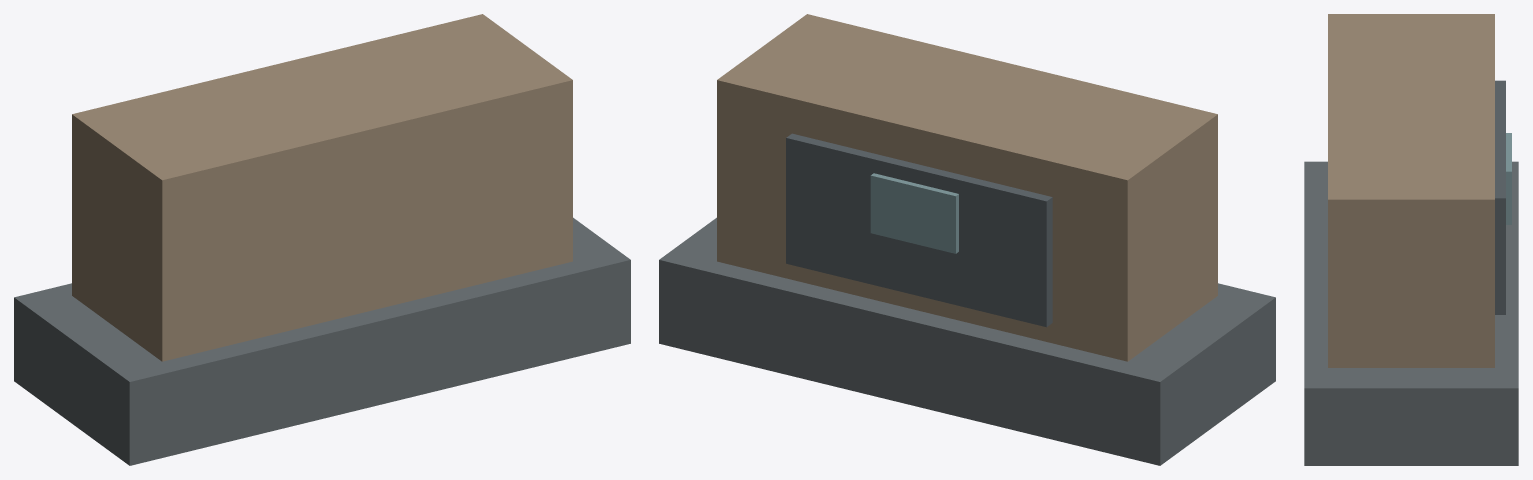
File: iz3_prison_control_02.glb
3 renders of one model, left to right at view 1: azimuth 30°, elevation 25°; view 2: azimuth 150°, elevation 25°; view 3: azimuth 270°, elevation 25°, orthographic. The views are drawn at different scales.
Visible parts, largest first — view 1: cabinet, base; view 2: cabinet, base, panel, display; view 3: cabinet, base, panel, display.
Boxes of the visible parts, <box> form: cabinet: <box>72,14,572,361</box>; base: <box>14,217,630,465</box>; cabinet: <box>717,14,1217,361</box>; base: <box>659,217,1275,465</box>; panel: <box>786,133,1052,327</box>; display: <box>870,173,958,253</box>; cabinet: <box>1328,14,1494,367</box>; base: <box>1304,161,1518,465</box>; panel: <box>1495,80,1505,314</box>; display: <box>1506,133,1511,224</box>.
Size of the model in its own units: 2 by 1.01 by 0.8.
